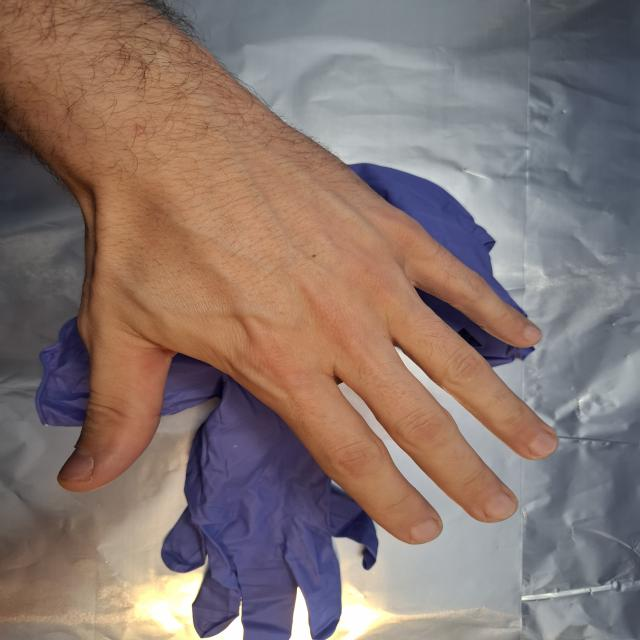glove_off: (50, 84, 565, 546)
